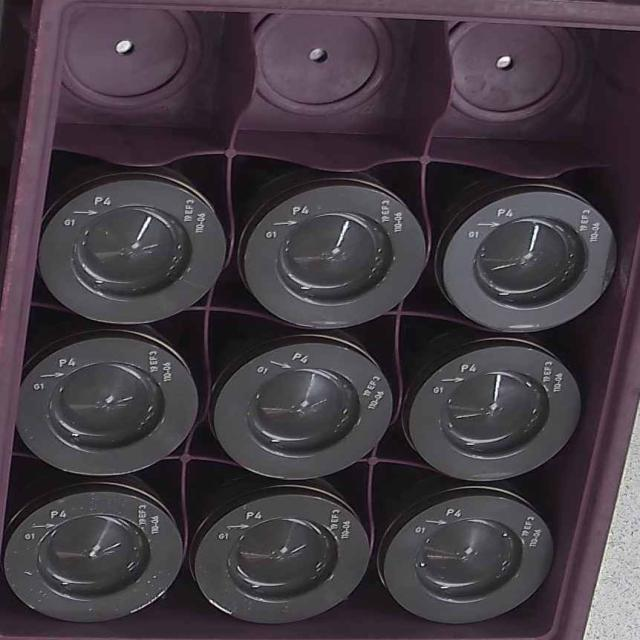P4: (246, 181, 428, 331), (447, 180, 623, 331), (217, 339, 394, 485), (406, 346, 586, 484), (28, 331, 200, 475), (52, 178, 222, 322), (14, 487, 183, 628), (384, 493, 561, 624), (202, 493, 370, 624)
